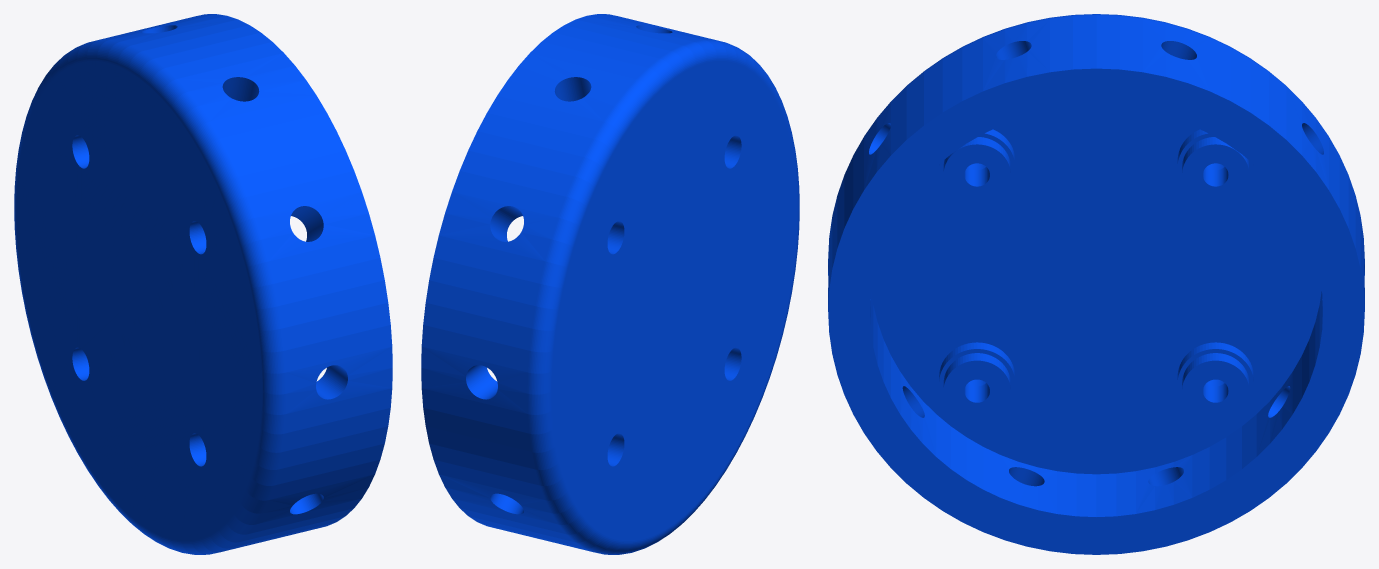
File: endeffector_visual.glb
The picture shows the model from 3 angles, left to right: view 1: azimuth 30°, elevation 25°; view 2: azimuth 150°, elevation 25°; view 3: azimuth 270°, elevation 25°; orthographic projection.
Visible parts, largest first — view 1: endeffector_visual.001; view 2: endeffector_visual.001; view 3: endeffector_visual.001.
Boxes of the visible parts, box(x1,y1,x2,y2) form: endeffector_visual.001: box(14, 14, 392, 554); endeffector_visual.001: box(421, 14, 799, 554); endeffector_visual.001: box(828, 14, 1364, 554).
Bounding box in the file's own units: 0.024 × 0.09 × 0.09.
